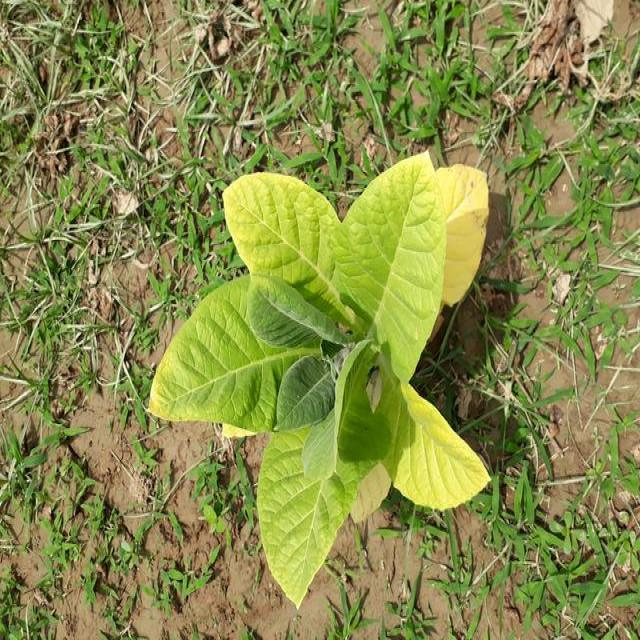crop: (177, 160, 494, 576)
